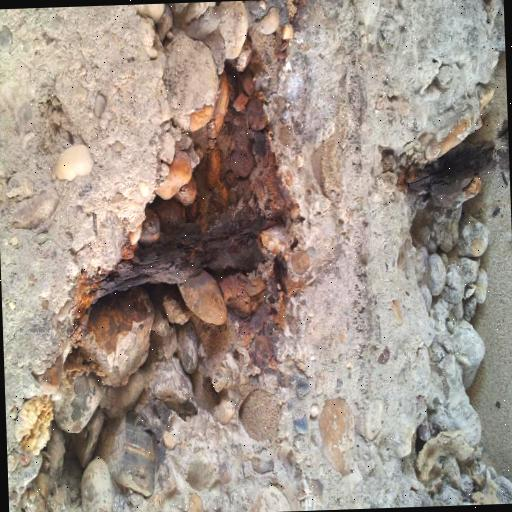spalling: (40, 29, 316, 394)
